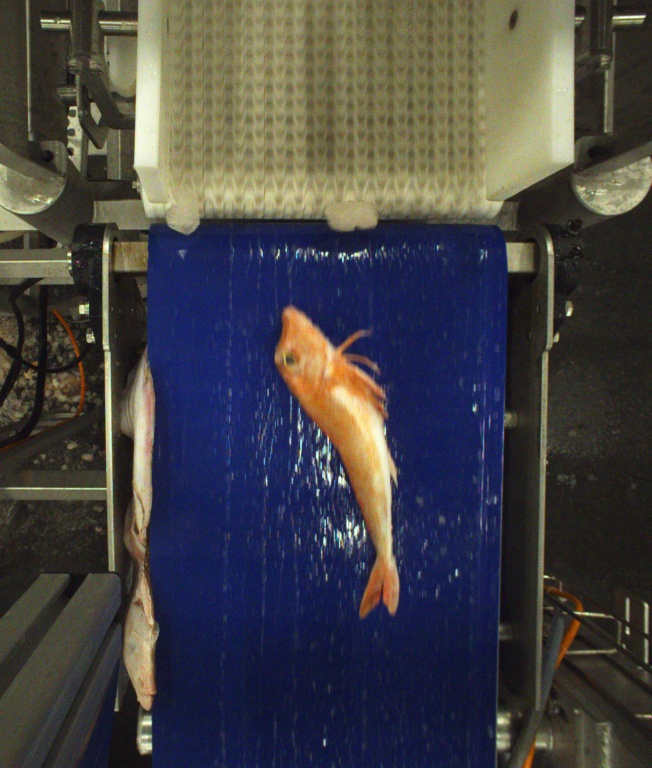GUU: (272, 303, 401, 615)
